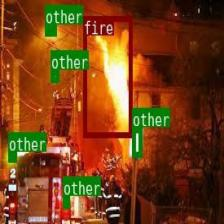fire: (83, 16, 131, 136)
